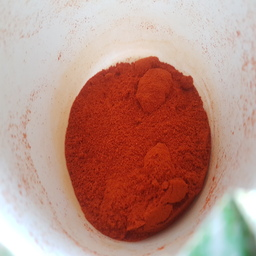Red chilli: (49, 54, 230, 244)
